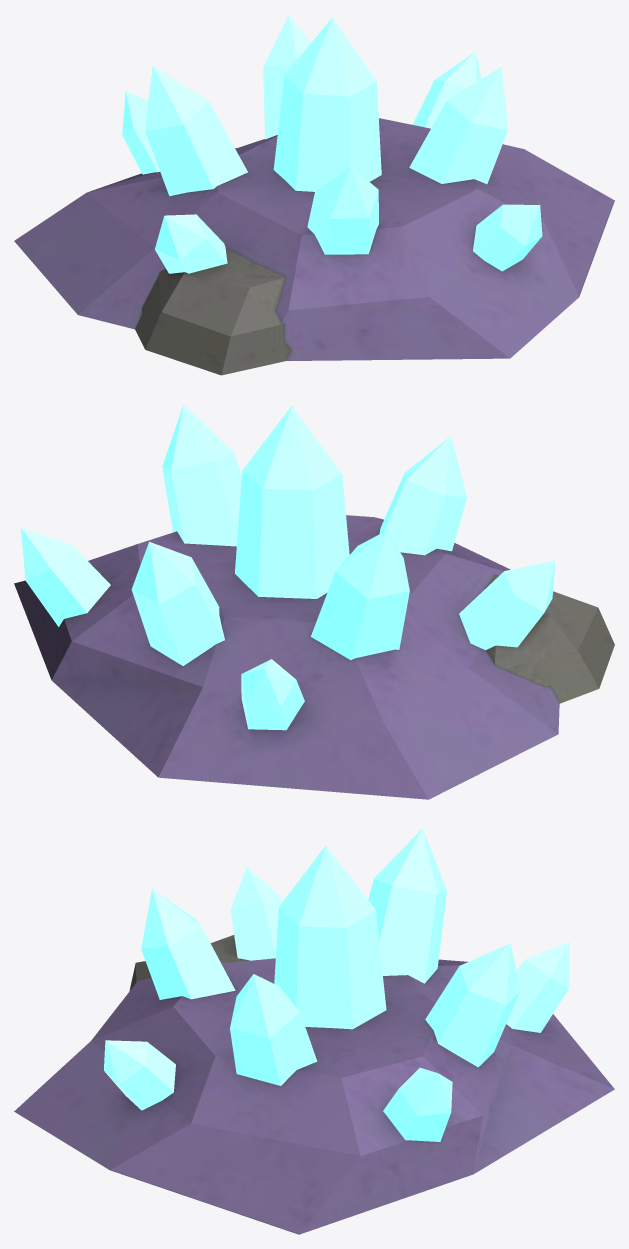
Rendered from jazida_cristal.glb.
3 renders of one model, top to bottom at view 1: azimuth 30°, elevation 25°; view 2: azimuth 150°, elevation 25°; view 3: azimuth 270°, elevation 25°, orthographic. The views are drawn at different scales.
Visible parts, largest first — view 1: jazida_cristal_corpo; view 2: jazida_cristal_corpo; view 3: jazida_cristal_corpo.
Boxes of the visible parts, x1,y1,x2,y2 form: jazida_cristal_corpo: (14, 15, 614, 375); jazida_cristal_corpo: (14, 404, 614, 799); jazida_cristal_corpo: (14, 828, 614, 1234).
Bounding box in the file's own units: 0.72 × 0.32 × 0.6864.
Materials: 2 (1 with a texture image).
